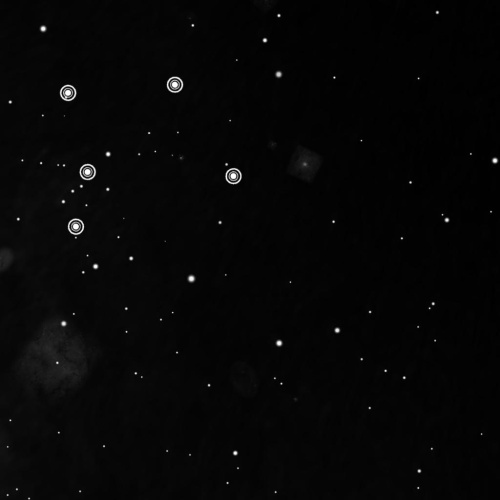libra: (53, 70, 248, 242)
